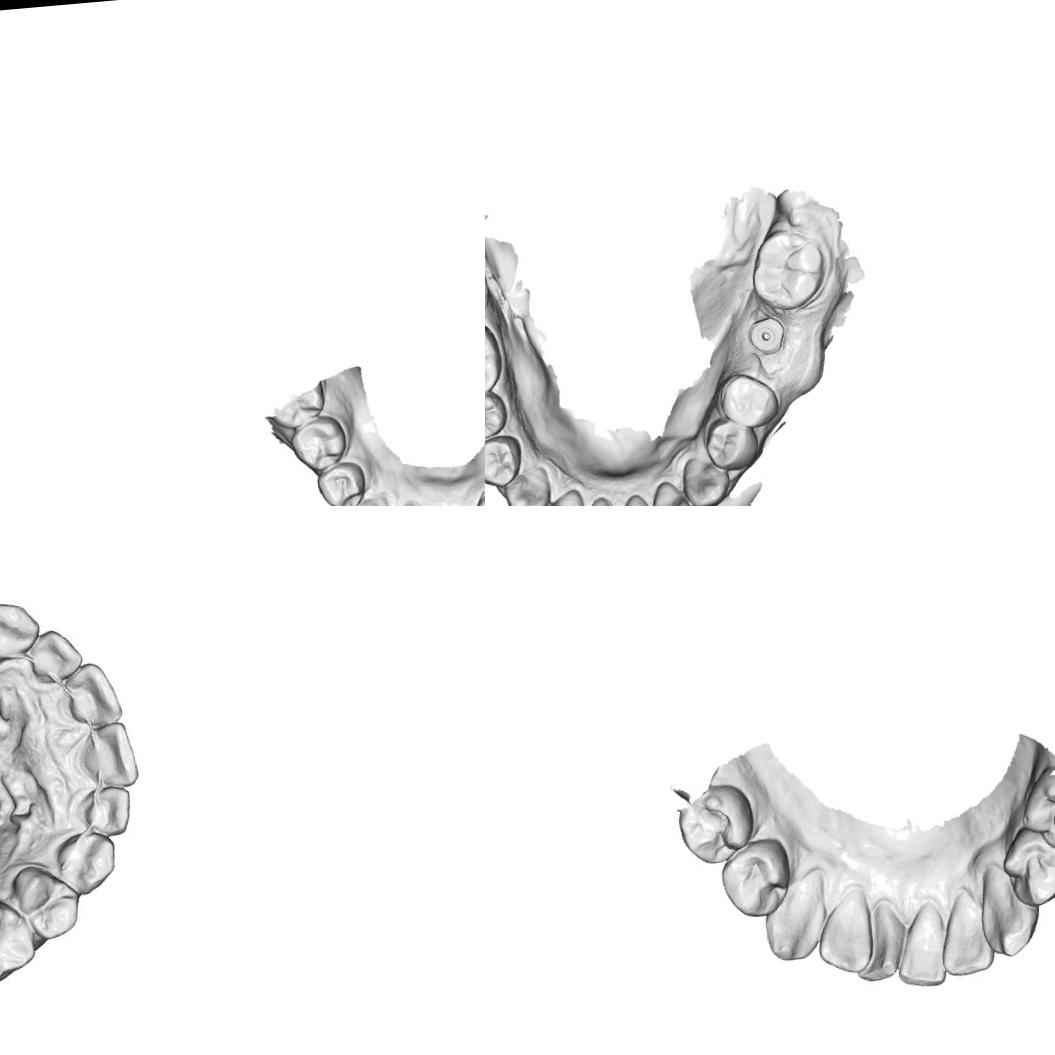canine: (759, 876, 832, 965), (976, 865, 1042, 958), (52, 826, 121, 897), (0, 597, 43, 668), (683, 450, 732, 506), (500, 463, 553, 506), (345, 493, 395, 506)
implant: (744, 312, 788, 358)
incisor: (934, 892, 996, 978), (813, 894, 871, 976), (892, 910, 950, 989), (850, 900, 904, 980), (66, 660, 122, 734), (82, 717, 140, 788), (26, 624, 86, 686), (76, 785, 134, 835), (646, 477, 694, 506), (539, 487, 586, 506), (613, 489, 656, 506), (576, 493, 620, 506)
molar: (746, 225, 830, 313), (268, 378, 338, 431), (0, 890, 37, 987), (485, 317, 505, 401)
premolar: (674, 784, 758, 866), (718, 838, 794, 920), (997, 823, 1055, 909), (15, 862, 76, 938), (716, 368, 782, 432), (286, 413, 350, 476), (702, 418, 761, 473), (1018, 770, 1055, 854), (312, 461, 366, 506), (485, 432, 524, 489), (485, 391, 510, 445)
